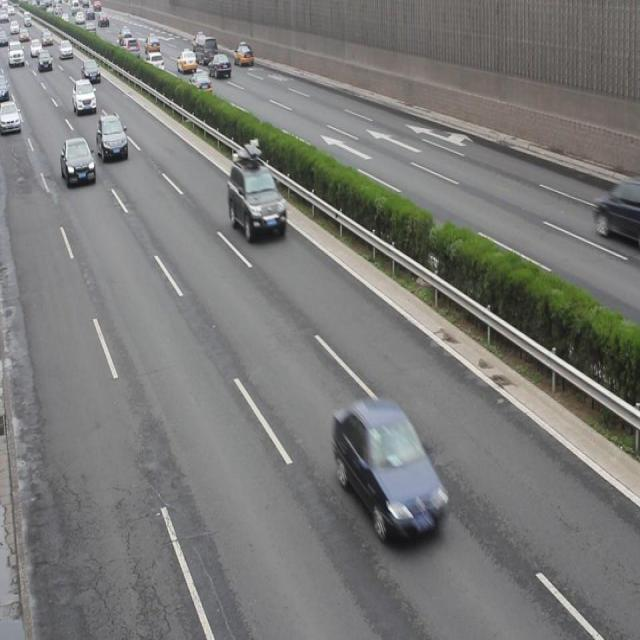car: (333, 394, 444, 540), (227, 144, 285, 240), (60, 138, 96, 190), (96, 111, 129, 164), (187, 70, 212, 97)
